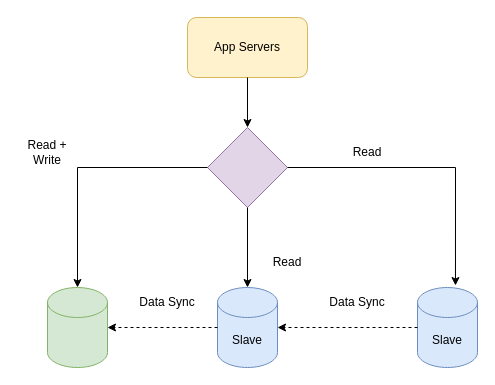
This 495x385 diagram has some shape labels left out. Here are the shapes that lost their labels. From the top down, the centre of each, then its label:
the point at 247,167: Cluster
the point at 77,327: Master
